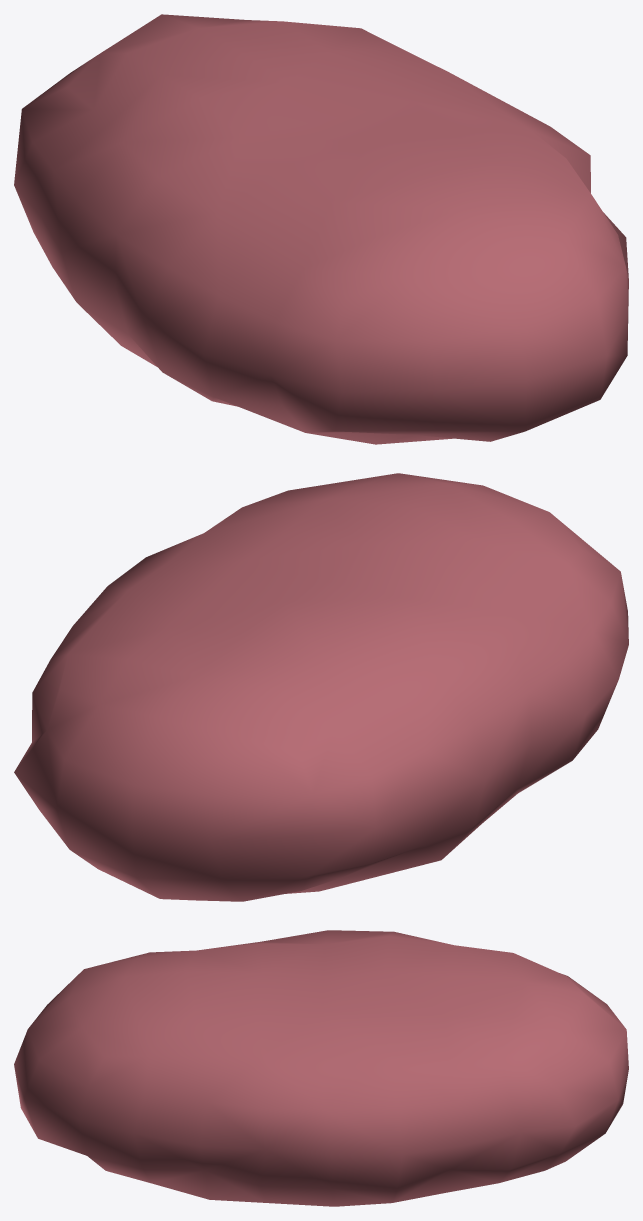
3 views of the same model, one above another, from view 1: azimuth 30°, elevation 25°; view 2: azimuth 150°, elevation 25°; view 3: azimuth 270°, elevation 25° (orthographic). The views are drawn at different scales.
Visible parts, largest first — view 1: transp.046; view 2: transp.046; view 3: transp.046.
Boxes of the visible parts, box(x1,y1,x2,y2) form: transp.046: box(14, 14, 628, 444); transp.046: box(14, 473, 628, 901); transp.046: box(14, 930, 628, 1206).
Size of the model in its own units: 0.3355 by 0.189 by 0.5.
